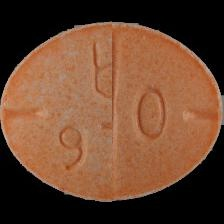0555-0974: (0, 0, 224, 224)
